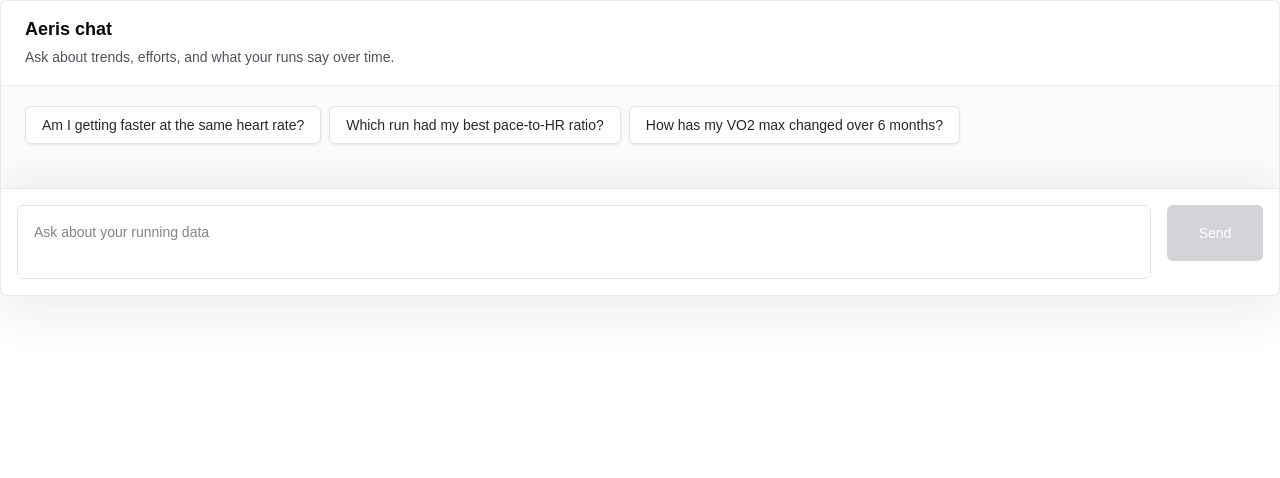
Scenario: ChatPanel › scrolls to the bottom as assistant content streams
The width and height of the screenshot is (1280, 478).
Step 1. Type "Compare this month to last month" into the text box named "message" → (584, 242), box [17, 205, 1151, 279]
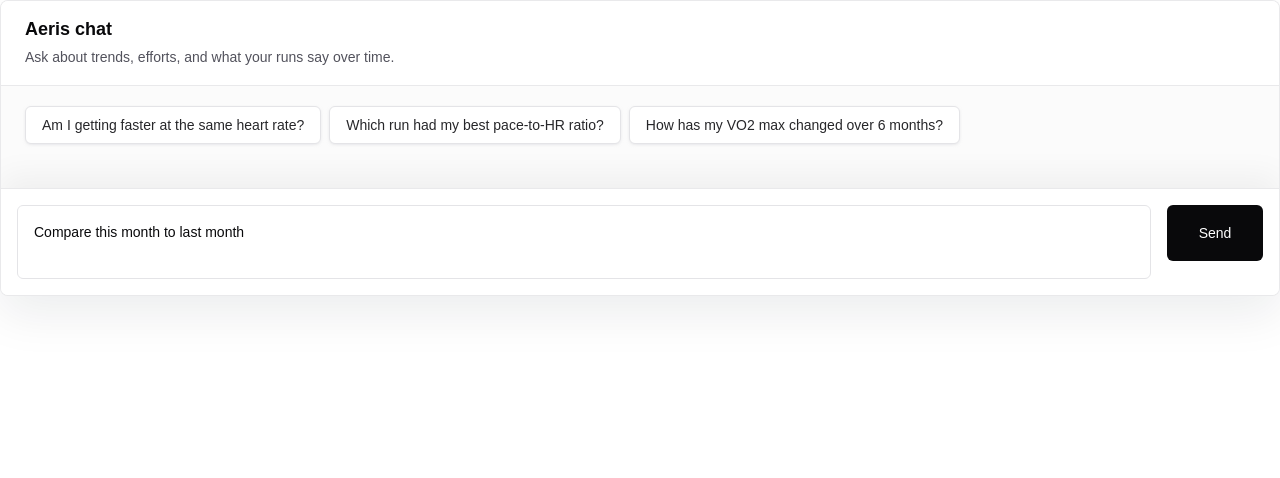
Step 2. Click the button "Send" → (1215, 233), box [1167, 205, 1263, 261]
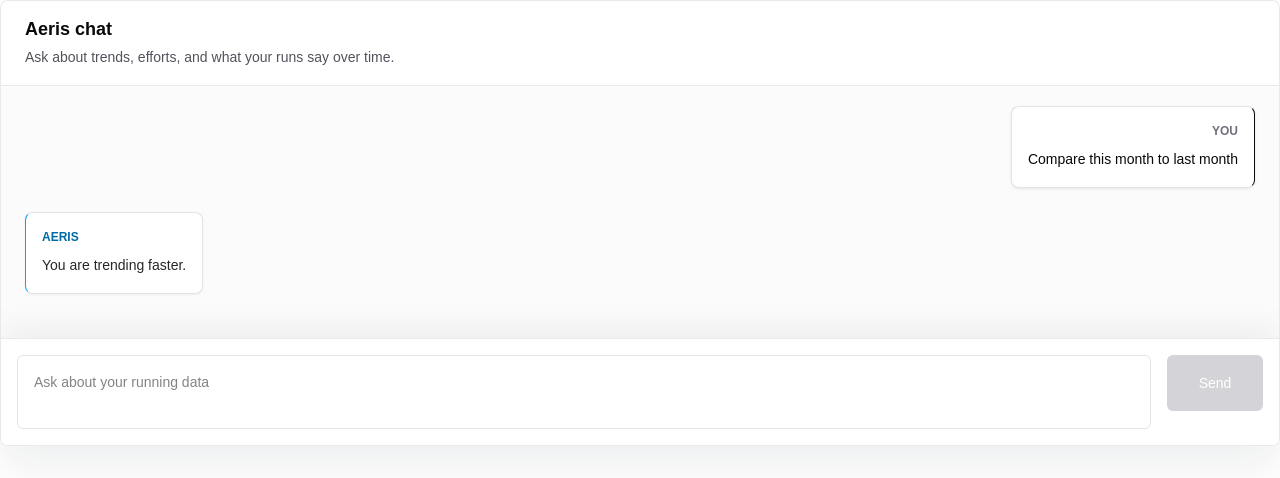
Check: the text "Compare this month to last month" is shown, box [1028, 147, 1238, 171]
Check: the text "You are trending faster." is shown, box [42, 253, 186, 277]
